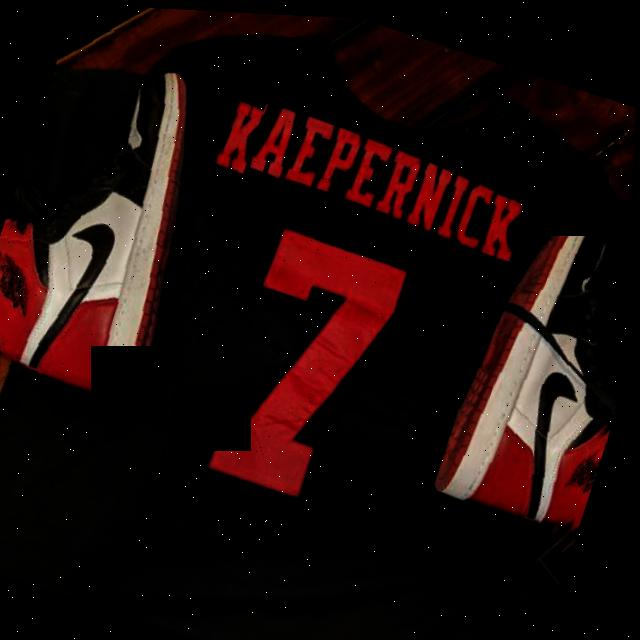shoe: (0, 11, 276, 459), (418, 160, 634, 584)
